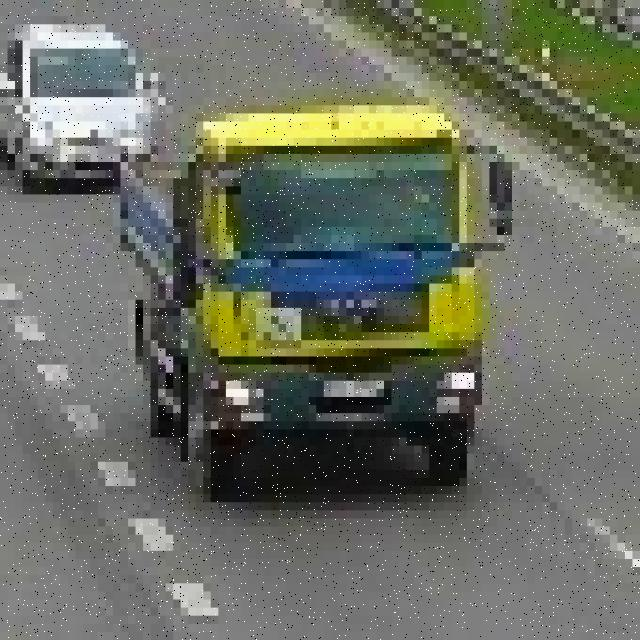truck: (121, 89, 527, 486)
